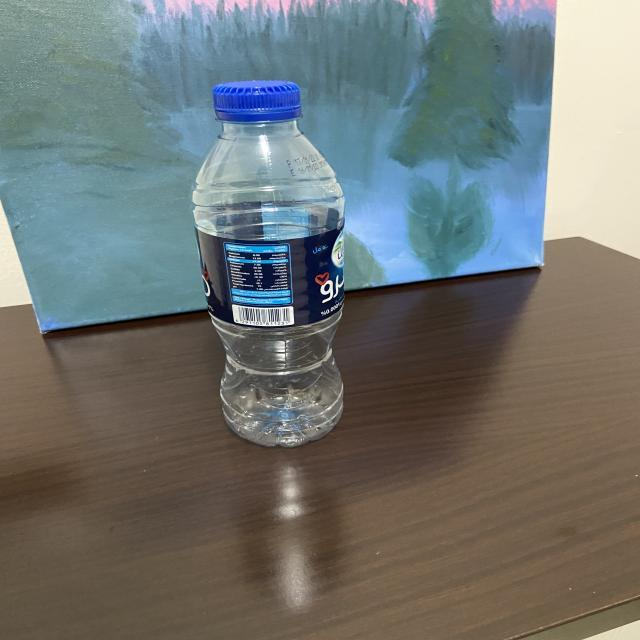chai: (192, 81, 344, 446)
